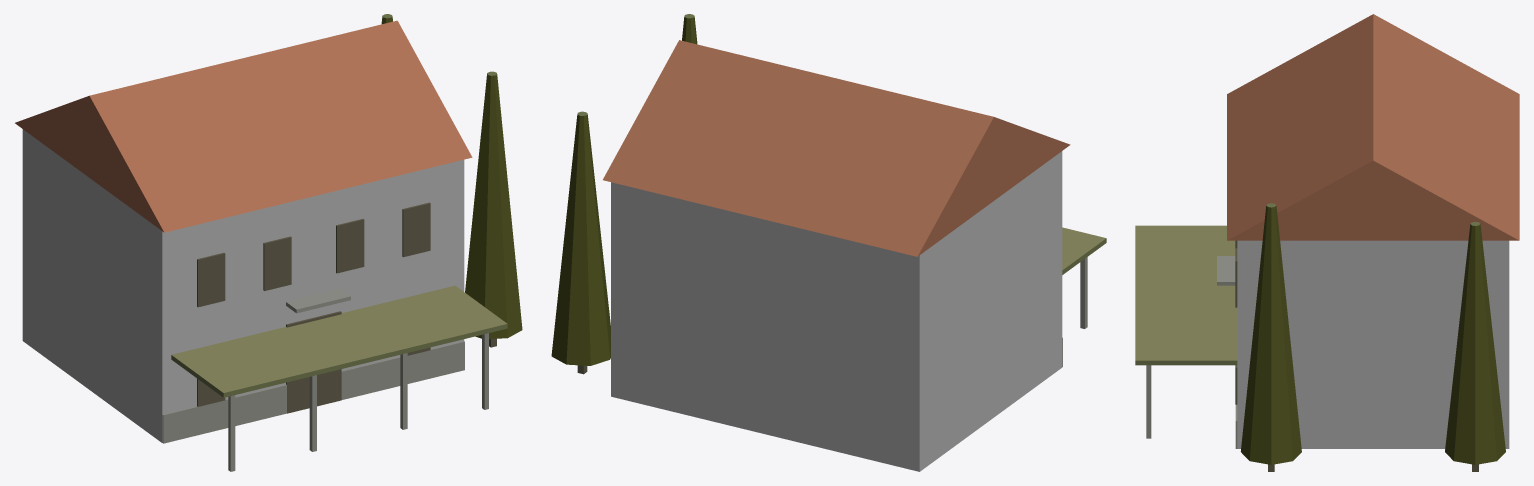
Rendered from SM_CasaLabor_v2_Porche_LOD0.fbx.
3 views of the same model, side by side, from view 1: azimuth 30°, elevation 25°; view 2: azimuth 150°, elevation 25°; view 3: azimuth 270°, elevation 25° (orthographic). The views are drawn at different scales.
Visible parts, largest first — view 1: SM_bloques.viveres_nules_v12_LOD0; view 2: SM_bloques.viveres_nules_v12_LOD0; view 3: SM_bloques.viveres_nules_v12_LOD0.
Boxes of the visible parts, box(x1,y1,x2,y2) form: SM_bloques.viveres_nules_v12_LOD0: box(15, 14, 522, 471); SM_bloques.viveres_nules_v12_LOD0: box(551, 14, 1106, 471); SM_bloques.viveres_nules_v12_LOD0: box(1135, 14, 1519, 471).
Size of the model in its own units: 12.5 by 9.4 by 11.3.
